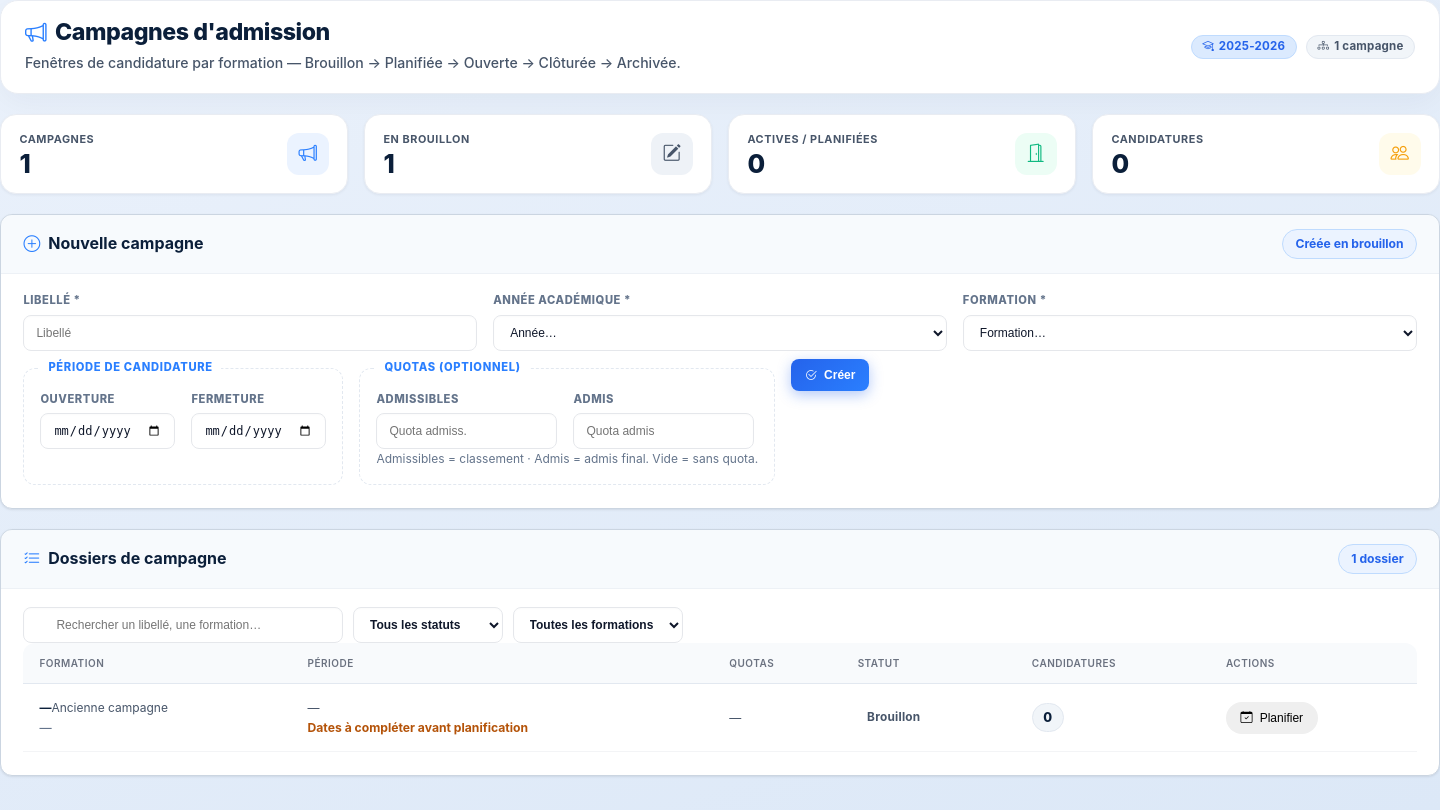
Test case: Campagnes — création en brouillon › crée une campagne avec les champs typés, notifie, réinitialise et recharge
Step 1. Type "Concours 2026" into the field with placeholder "Libellé" → (250, 333), box [23,315,477,351]
Step 2. Select "2025-2026" in the dropdown labelled "Année académique *" → (720, 333), box [493,315,947,351]
Step 3. Select "L1 LSF" in the dropdown labelled "Formation *" → (1190, 333), box [963,315,1417,351]
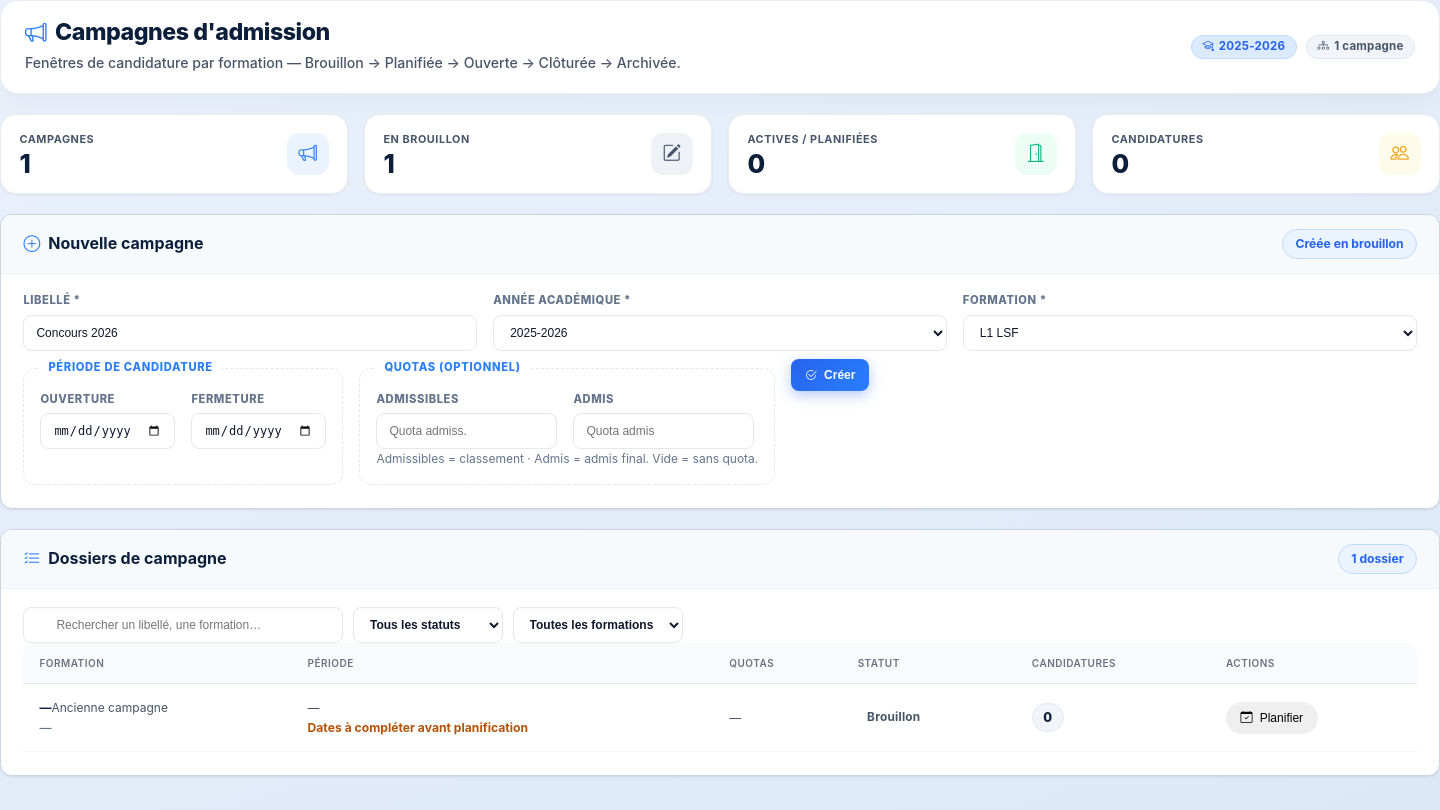
Step 4. Type "2026-03-01" into the date field labelled "Ouverture" → (108, 431), box [40,413,175,449]
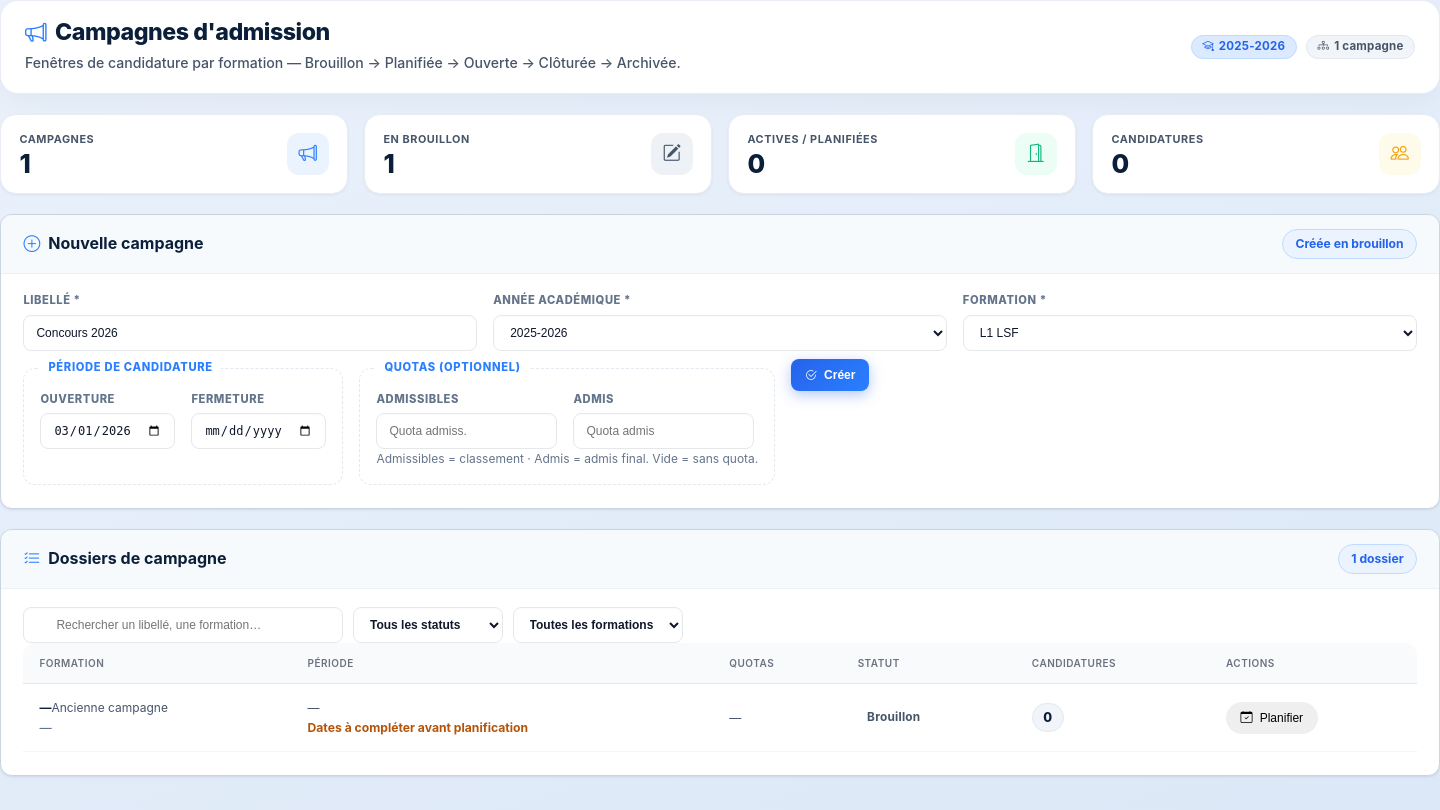
Step 5. Type "2026-04-30" into the date field labelled "Fermeture" → (259, 431), box [191,413,326,449]
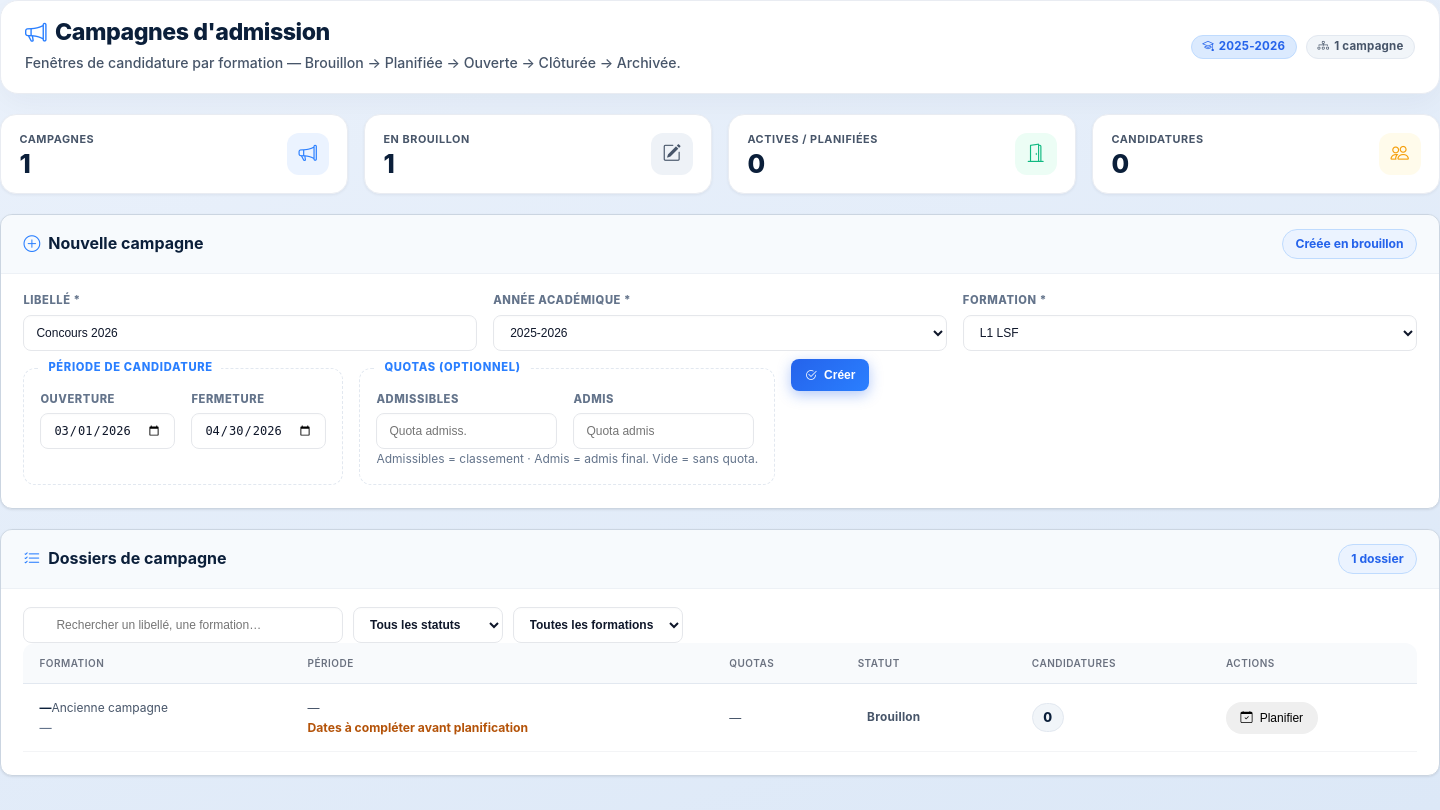
# Quotas (régression §10.11 : ils étaient absents du formulaire au LOT 16).
Step 6. Type "30" into the number field labelled "Admissibles" → (467, 431), box [376,413,557,449]
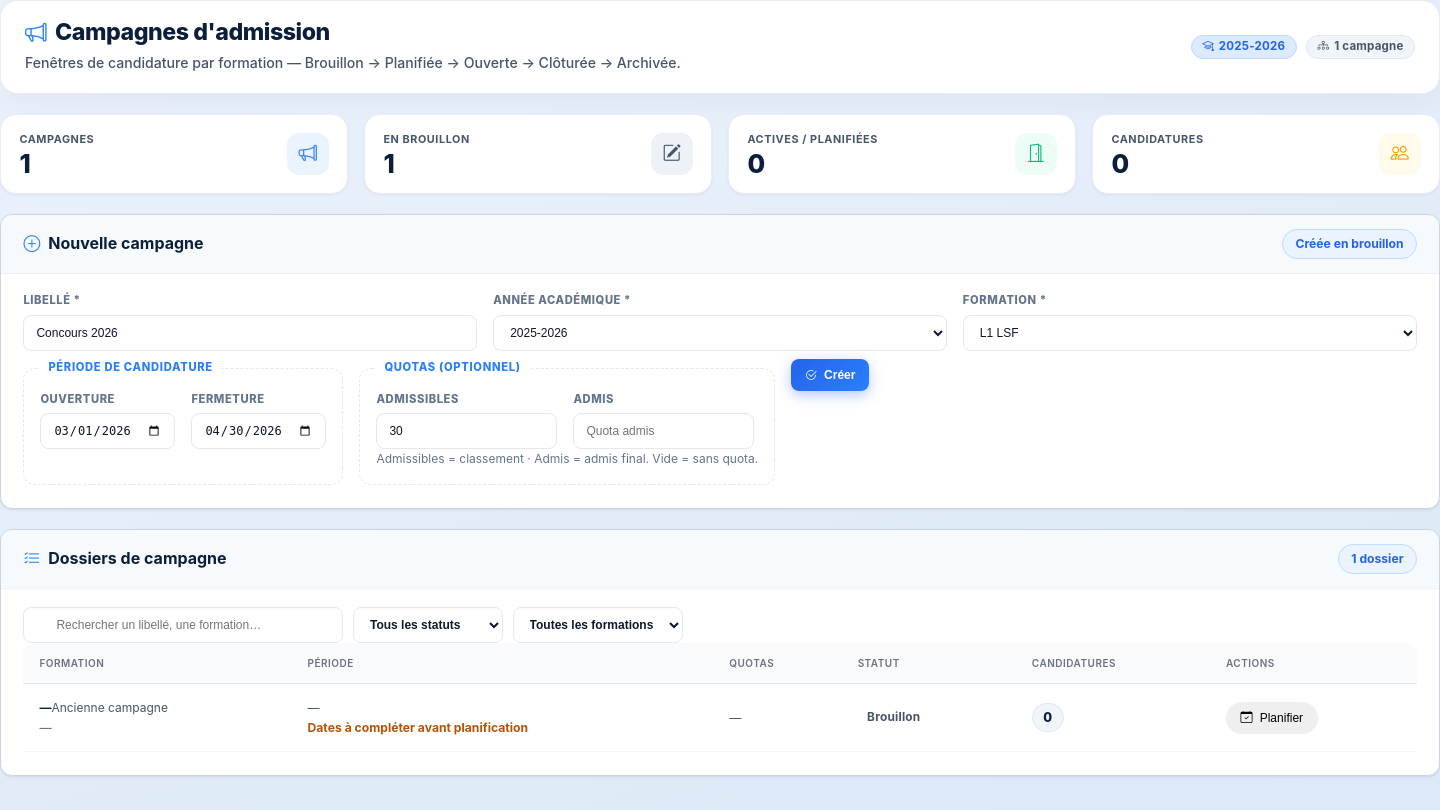
Step 7. Type "25" into the number field labelled "Admis" → (664, 431), box [573,413,754,449]
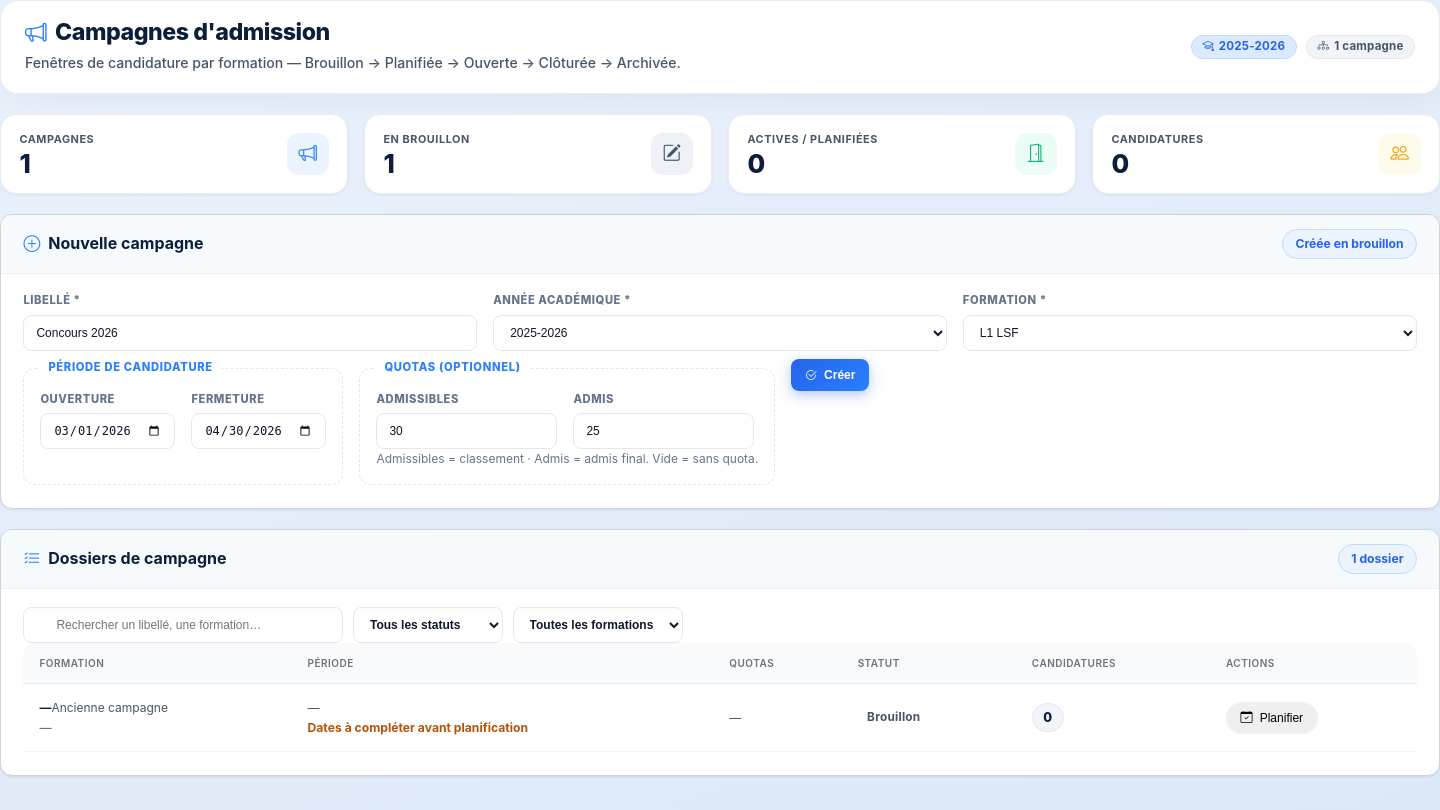
Step 8. Click the button "Créer" → (830, 375), box [791,359,869,391]
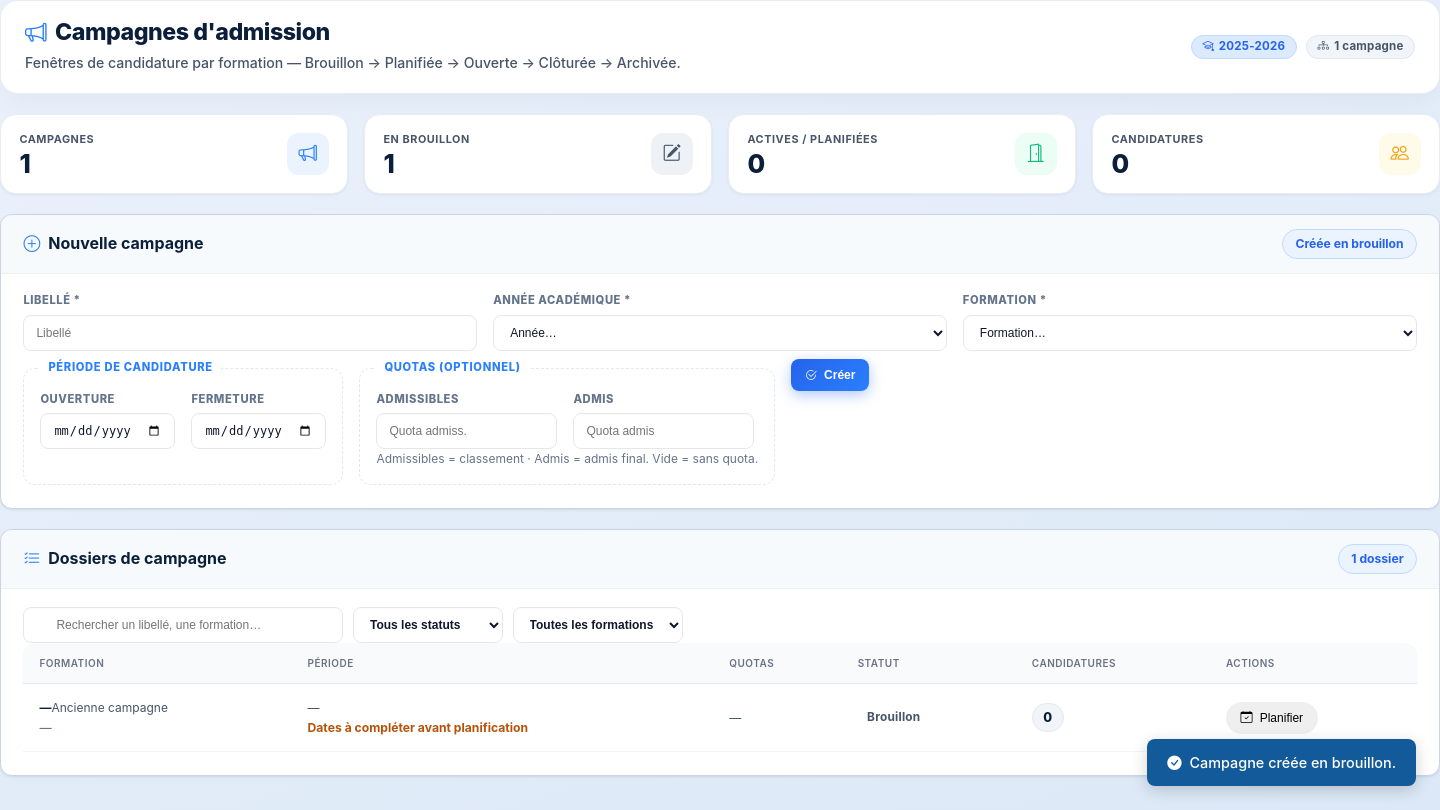
Expected: the text "Campagne créée en brouillon." is shown, [1147,739,1416,786]
Expected: the field with placeholder "Libellé" is empty, [23,315,477,351]
Expected: the number field labelled "Admissibles" is not empty, [376,413,557,449]
